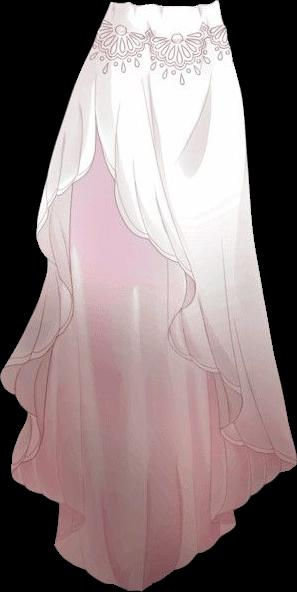Hemline: (1, 127, 295, 476)
Waistline: (109, 0, 218, 10)
